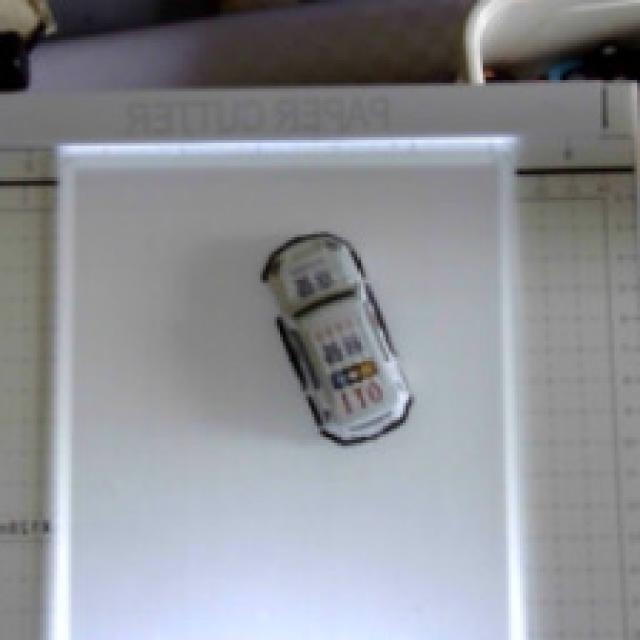Grey Car: (229, 198, 456, 481)
